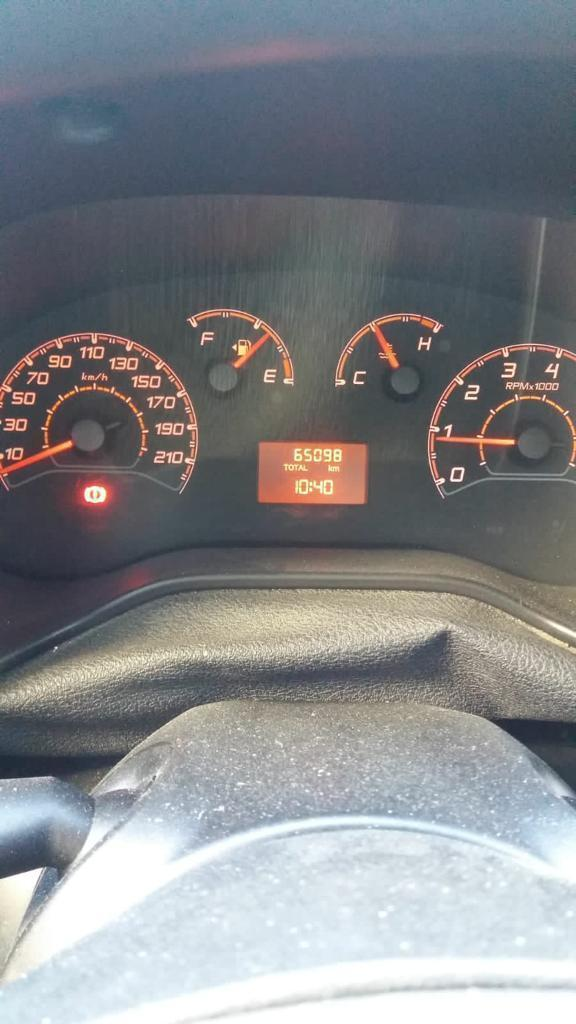0: (298, 478, 309, 494), (323, 479, 334, 494), (313, 448, 322, 462)
1: (294, 479, 299, 494)
4: (313, 479, 323, 494)
5: (303, 448, 312, 461)
6: (293, 448, 302, 461)
8: (333, 448, 342, 462)
9: (323, 448, 332, 462)
X: (308, 481, 313, 492), (332, 465, 339, 472), (282, 463, 288, 470), (327, 464, 332, 472), (303, 464, 308, 471), (288, 464, 293, 471), (293, 464, 298, 471), (298, 464, 302, 471)
odometer: (256, 439, 370, 506)
